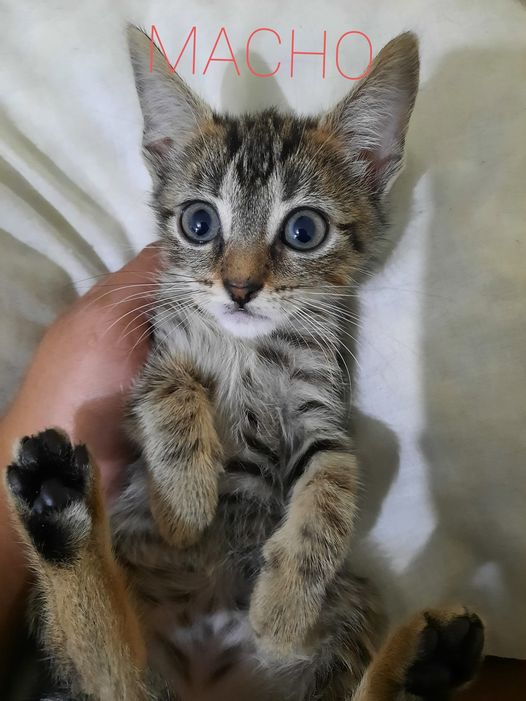cat: (6, 20, 482, 695)
